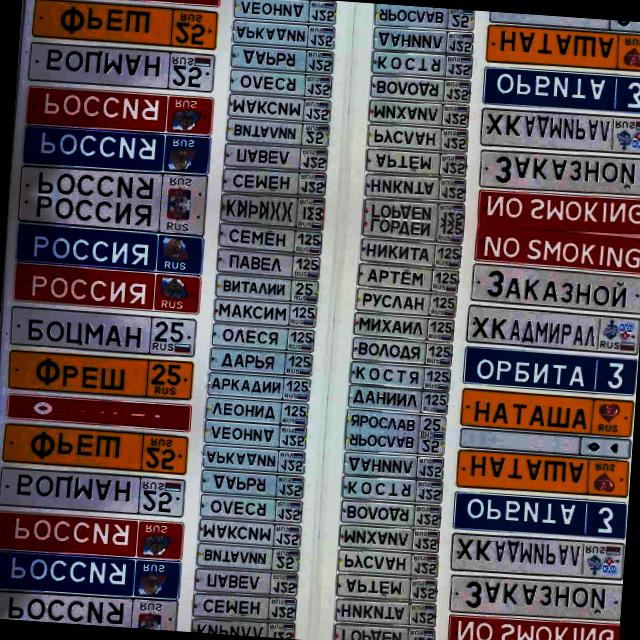citizen: (8, 300, 200, 358), (25, 39, 218, 96), (0, 464, 189, 521), (447, 529, 625, 584), (463, 299, 640, 354), (444, 568, 623, 622), (465, 261, 640, 315), (476, 104, 640, 159), (473, 143, 640, 197), (14, 191, 208, 235), (16, 161, 210, 205), (0, 586, 180, 630), (354, 232, 464, 270), (359, 168, 468, 206), (207, 317, 317, 353), (190, 588, 300, 624), (224, 66, 334, 102), (216, 220, 325, 256), (220, 162, 329, 198), (329, 594, 438, 630), (194, 491, 304, 526), (352, 284, 458, 318), (226, 90, 334, 123), (196, 515, 304, 548), (201, 418, 309, 451), (364, 121, 470, 154), (334, 546, 440, 579), (339, 448, 445, 481), (212, 296, 320, 328), (202, 393, 310, 425), (348, 358, 451, 391), (215, 246, 321, 278), (348, 334, 454, 366), (369, 24, 475, 56), (344, 382, 449, 414), (367, 72, 472, 104), (338, 496, 442, 528), (194, 541, 301, 572), (222, 141, 328, 172), (192, 566, 298, 597), (224, 116, 330, 147), (370, 48, 472, 80), (340, 472, 442, 504), (212, 272, 320, 302), (366, 96, 470, 127), (336, 521, 440, 552), (207, 345, 313, 375), (228, 44, 334, 74), (198, 468, 304, 498), (203, 372, 312, 401), (372, 4, 477, 34), (342, 428, 447, 458), (228, 18, 336, 47), (198, 443, 306, 472), (356, 262, 460, 292), (350, 312, 454, 342), (344, 404, 448, 434), (364, 147, 468, 176), (334, 572, 438, 601), (230, 0, 338, 26), (218, 205, 324, 228), (218, 192, 326, 214), (189, 616, 296, 638)
diplomatic: (8, 258, 204, 316), (21, 80, 216, 138), (0, 505, 186, 563), (469, 223, 640, 271), (471, 187, 640, 235), (442, 612, 619, 640)
police: (22, 121, 213, 178), (15, 219, 206, 275), (0, 546, 183, 602), (461, 342, 637, 396), (451, 488, 627, 541), (480, 63, 640, 116)
taxi: (3, 346, 196, 402), (0, 420, 191, 475), (28, 0, 221, 50), (456, 384, 634, 436), (452, 448, 630, 500), (481, 22, 640, 75)
